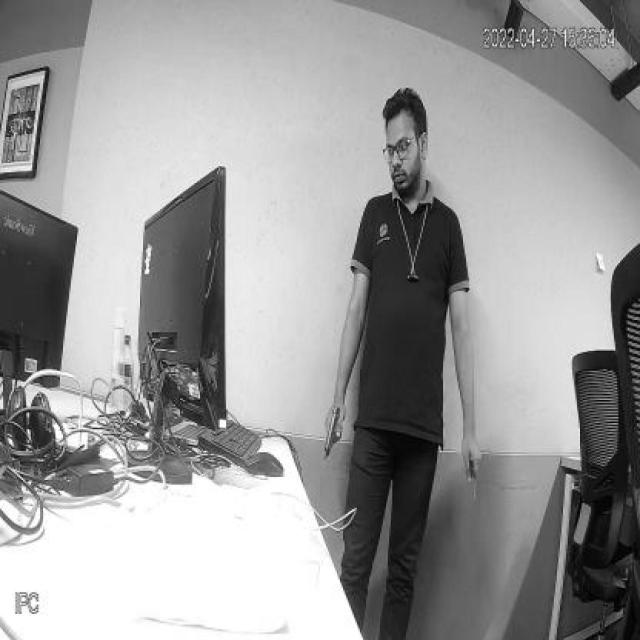weapon: (322, 404, 343, 458)
